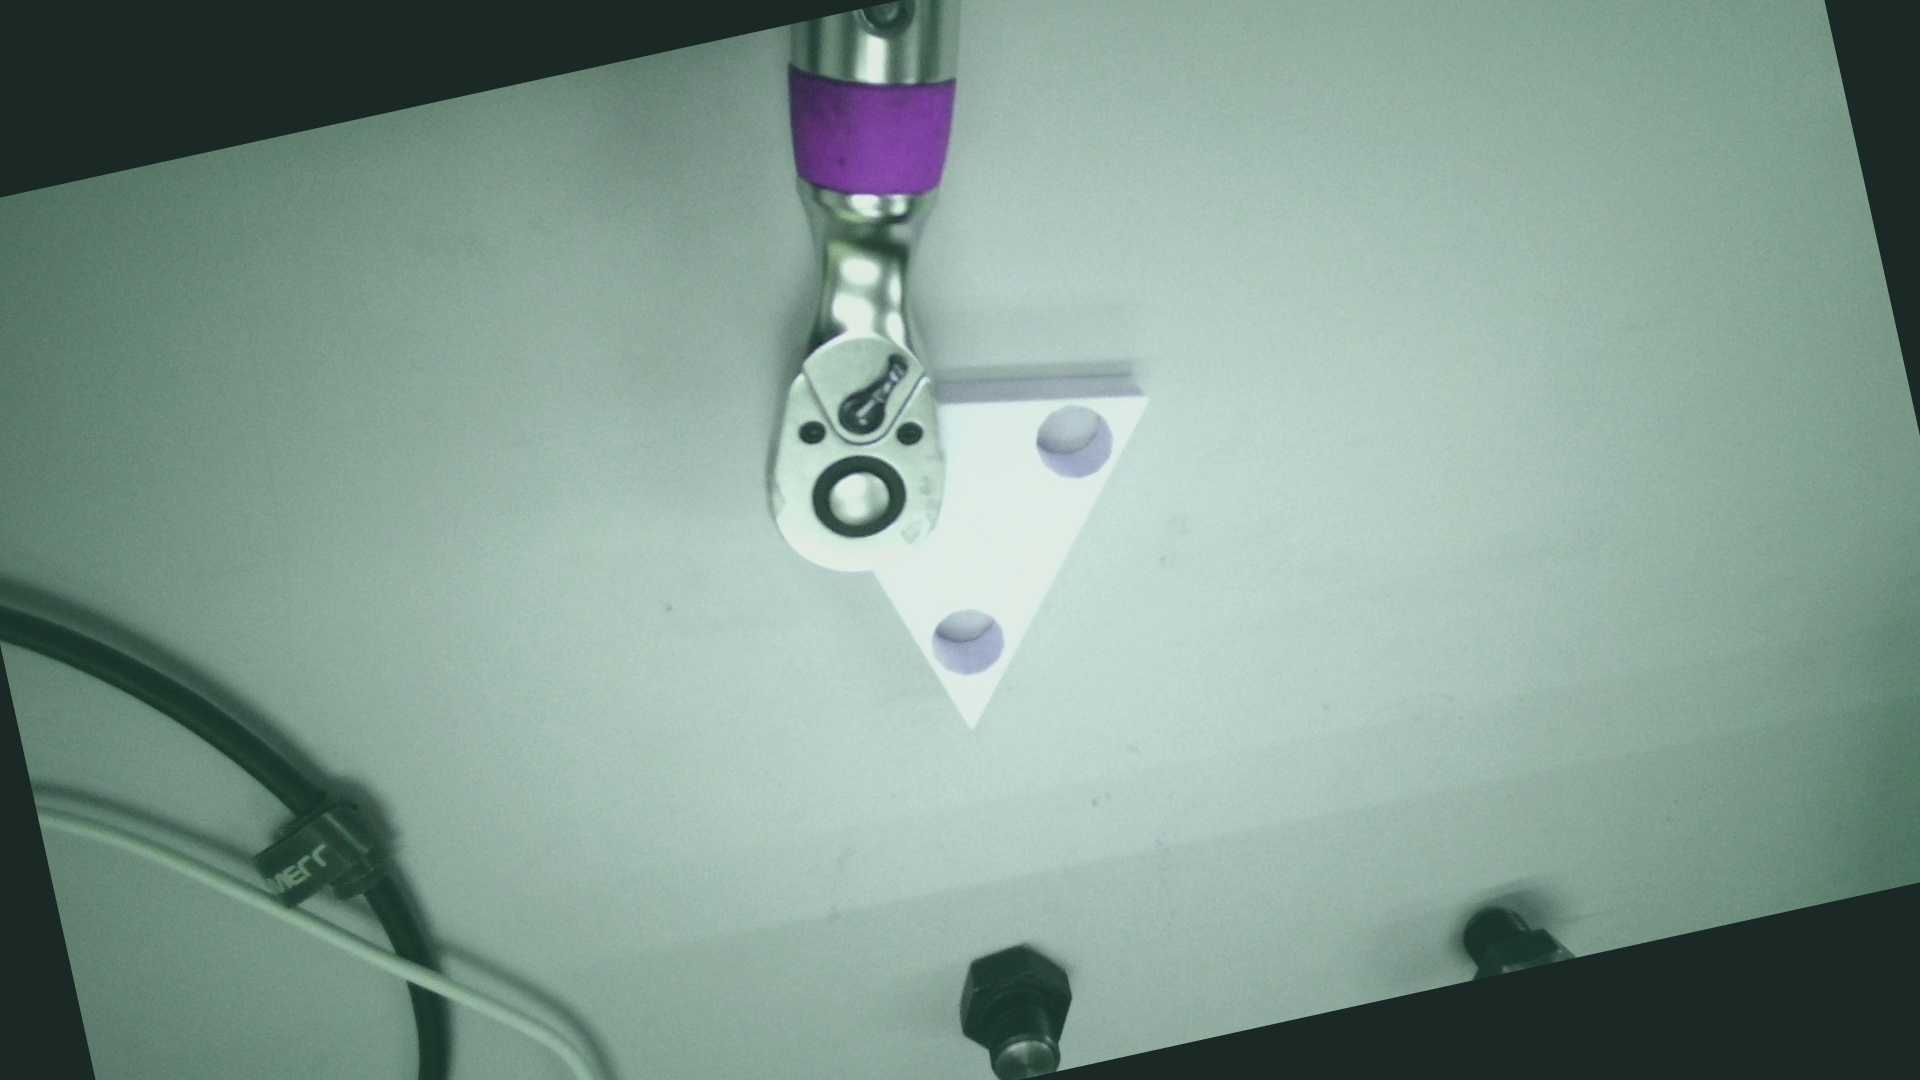hole: (1027, 397, 1120, 485), (923, 603, 1011, 683)
obj: (833, 339, 1211, 742)
wrench: (802, 444, 914, 547)
